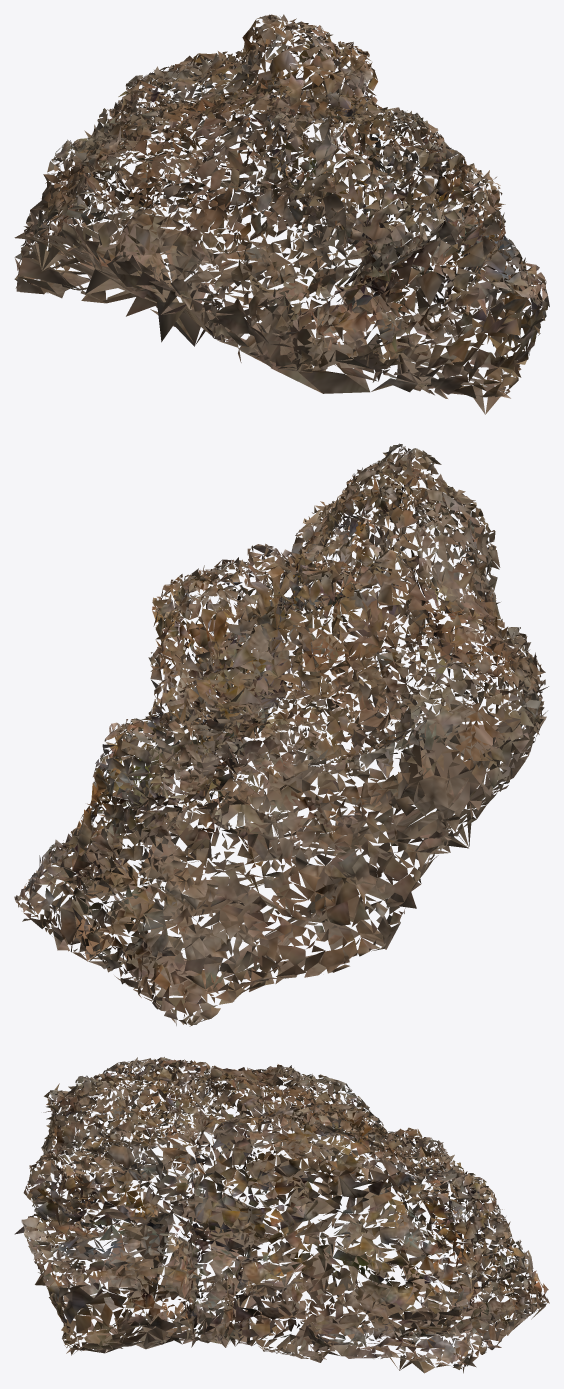
The model's file is boulder_01.glb.
The picture shows the model from 3 angles, top to bottom: view 1: azimuth 30°, elevation 25°; view 2: azimuth 150°, elevation 25°; view 3: azimuth 270°, elevation 25°; orthographic projection. The views are drawn at different scales.
Visible parts, largest first — view 1: boulder_01; view 2: boulder_01; view 3: boulder_01.
Part boxes in pixels (x1,y1,x2,y2): boulder_01: [14, 14, 549, 414]; boulder_01: [14, 443, 548, 1026]; boulder_01: [14, 1057, 549, 1373].
Size of the model in its own units: 1.27 by 1.03 by 1.85.
Materials: 1 (1 with a texture image).
